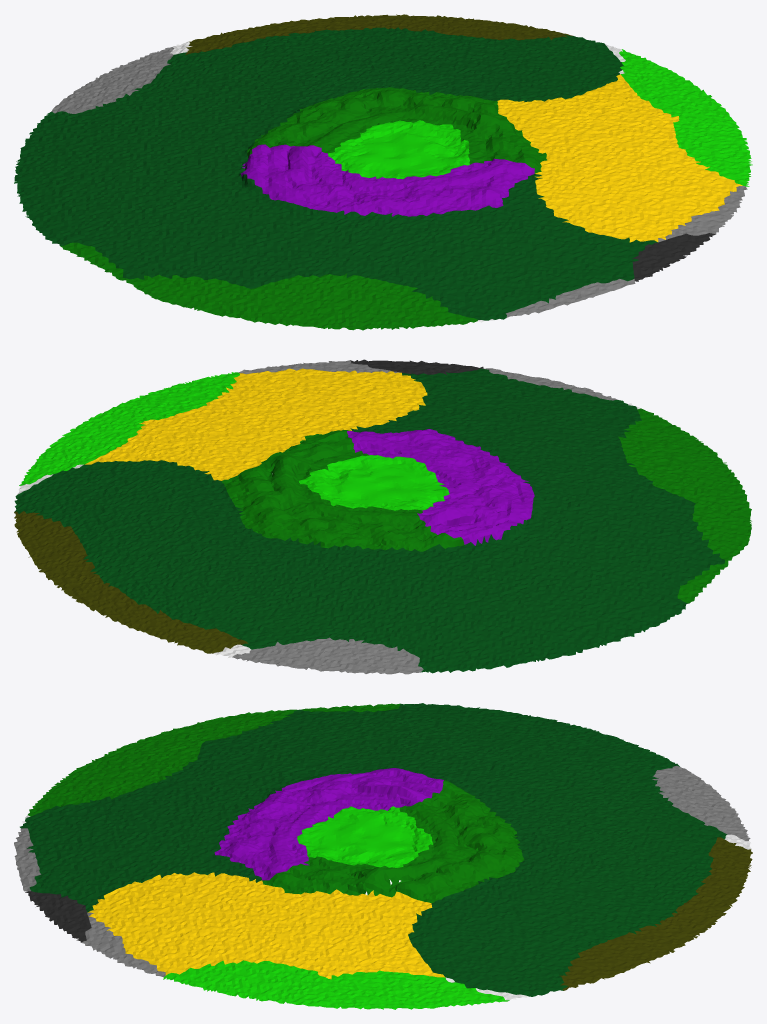
Rendered from Starting.fbx.
3 views of the same model, one above another, from view 1: azimuth 30°, elevation 25°; view 2: azimuth 150°, elevation 25°; view 3: azimuth 270°, elevation 25° (orthographic).
Parts seen in each view (by area): view 1: Starting.001; view 2: Starting.001; view 3: Starting.001.
Part boxes in pixels (x1,y1,x2,y2): Starting.001: (14, 14, 752, 330); Starting.001: (14, 359, 751, 674); Starting.001: (14, 703, 752, 1009).
Size of the model in its own units: 16450 by 988 by 16322.
